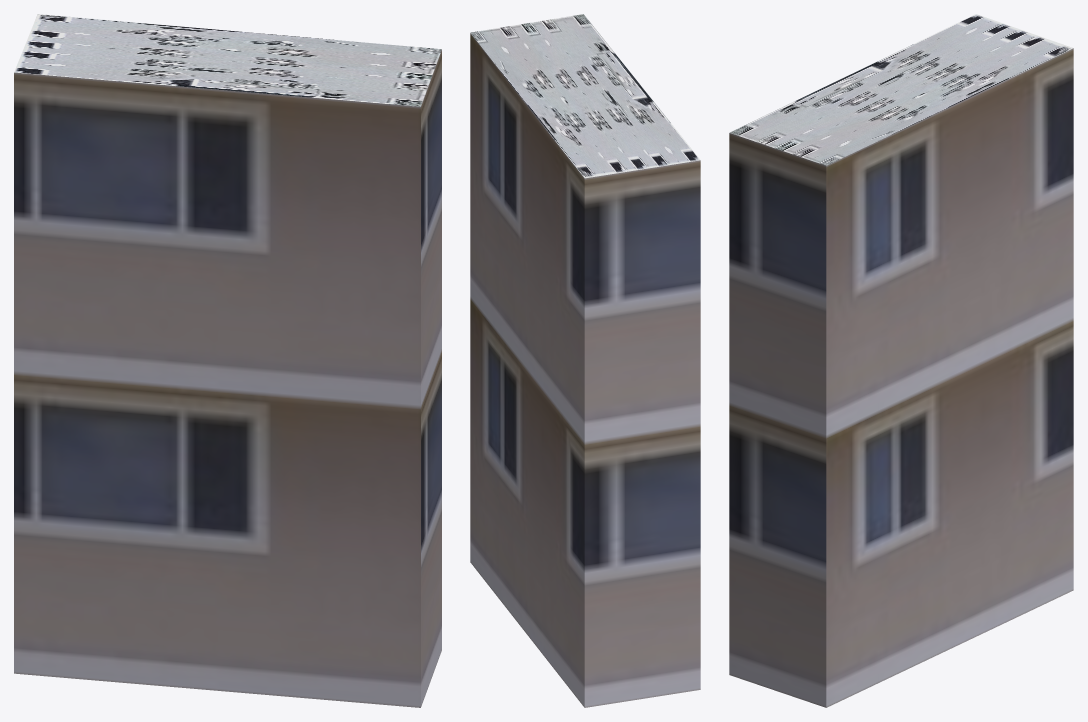
File: ResTex__1773.fbx
3 renders of one model, left to right at view 1: azimuth 30°, elevation 25°; view 2: azimuth 150°, elevation 25°; view 3: azimuth 270°, elevation 25°, orthographic. The views are drawn at different scales.
Visible parts, largest first — view 1: CityEngineMaterial_21_m, CityEngineMaterial_4_m; view 2: CityEngineMaterial_21_m, CityEngineMaterial_4_m; view 3: CityEngineMaterial_21_m, CityEngineMaterial_4_m.
Boxes of the visible parts, box(x1,y1,x2,y2) form: CityEngineMaterial_21_m: box(14, 50, 441, 707); CityEngineMaterial_4_m: box(14, 14, 441, 106); CityEngineMaterial_21_m: box(470, 33, 700, 707); CityEngineMaterial_4_m: box(470, 14, 700, 178); CityEngineMaterial_21_m: box(729, 48, 1073, 707); CityEngineMaterial_4_m: box(729, 14, 1073, 165).
Bounding box in the file's own units: 3.6 × 6 × 3.46.
Materials: 2 (2 with a texture image).
